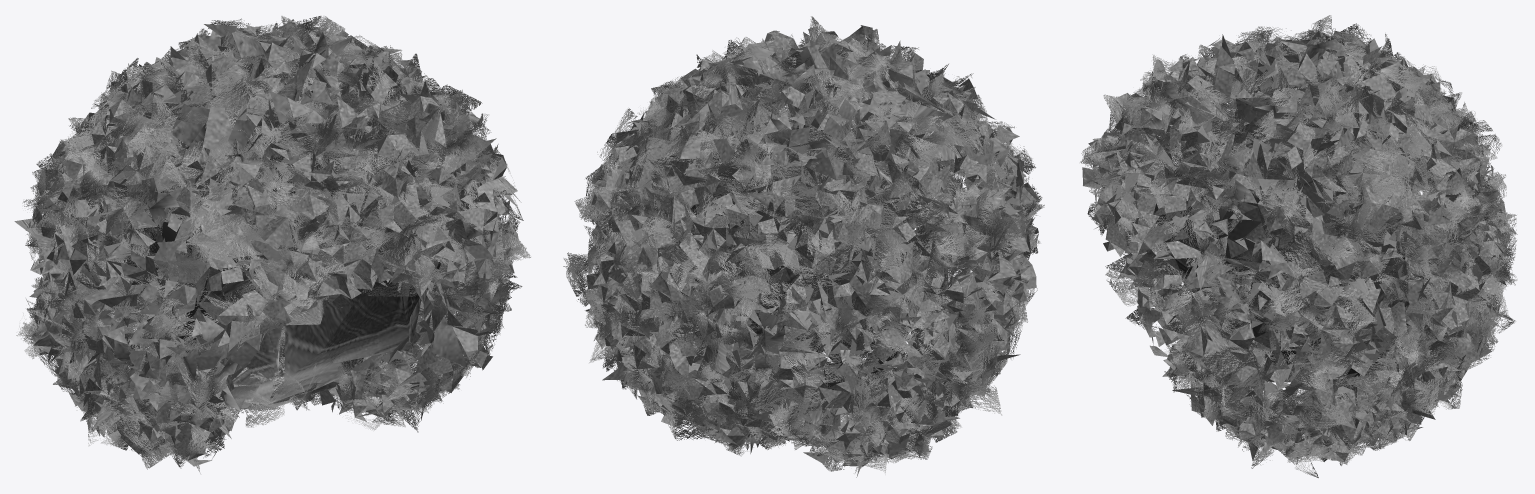
Rendered from hair_afro.glb.
3 views of the same model, side by side, from view 1: azimuth 30°, elevation 25°; view 2: azimuth 150°, elevation 25°; view 3: azimuth 270°, elevation 25° (orthographic). The views are drawn at different scales.
Visible parts, largest first — view 1: Mesh_0, haircards; view 2: Mesh_0, haircards; view 3: Mesh_0, haircards.
Part boxes in pixels (x1,y1,x2,y2): Mesh_0: (14,18,521,466); haircards: (16,16,530,473); Mesh_0: (579,25,1039,477); haircards: (563,16,1044,474); Mesh_0: (1082,29,1510,464); haircards: (1080,15,1517,477).
Bounding box in the file's own units: 0.2559 × 0.2241 × 0.2369.
2 materials, 2 textured.
